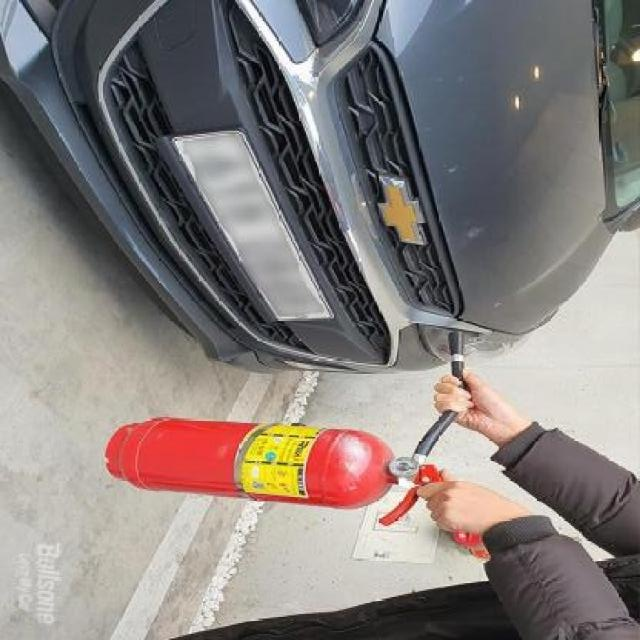fire extinguisher: (103, 329, 474, 543)
